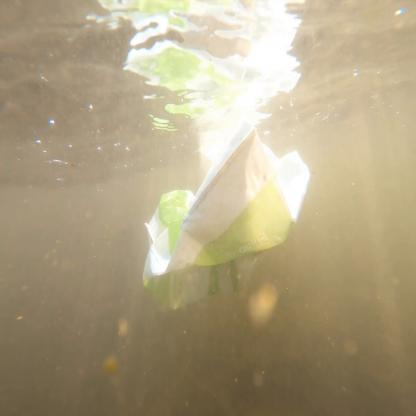Rác: (149, 70, 311, 304)
